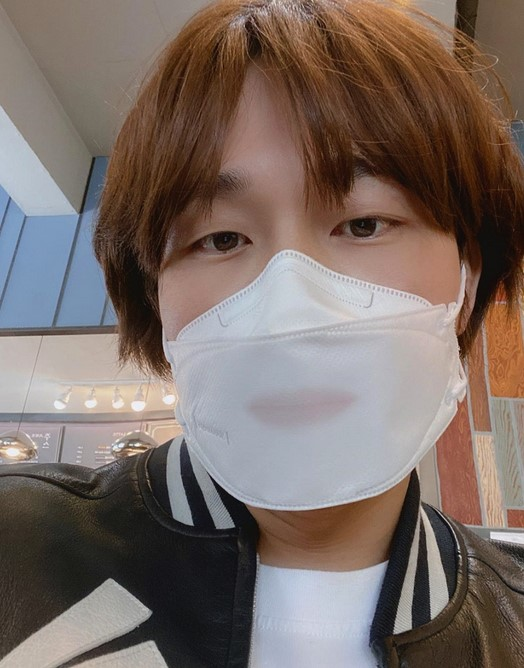face_with_mask: (100, 9, 508, 511)
